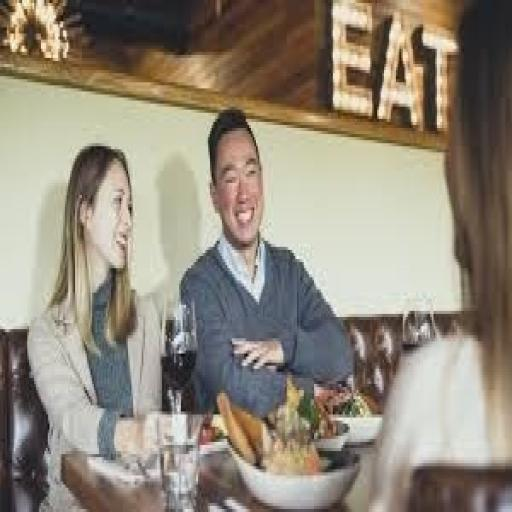eating: (178, 104, 356, 418)
